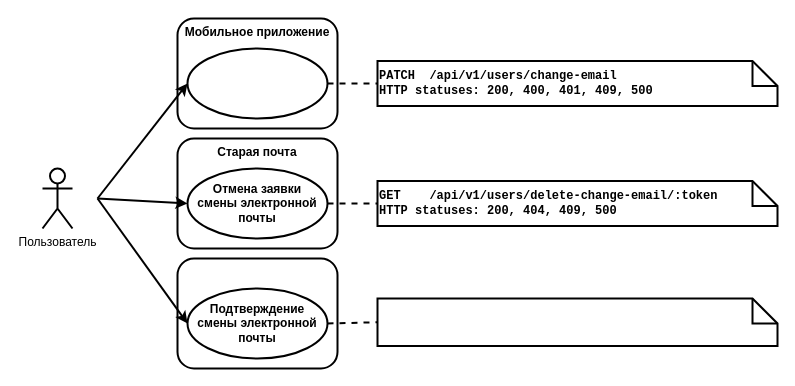
The diagram is 795 pixels wide and 386 high, and some of its shapes have lost their labels. The shapes that lost their labels are listed below. From the top down, each one's box as (x1, y1, x2, y2) in pixels, then its label:
(186, 47, 328, 119): Заявка на смену электронной почты
(176, 257, 338, 369): Новая почта
(376, 297, 778, 346): GET /api/v1/users/confirm-change-email/:token HTTP statuses: 200, 404, 409, 500
